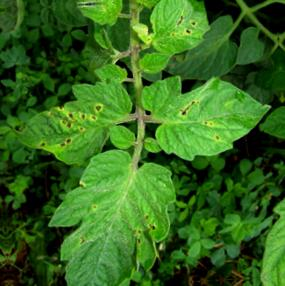Tomato leaf bacterial spot: (43, 140, 184, 286), (138, 66, 279, 170), (5, 75, 139, 180), (142, 0, 214, 57)
